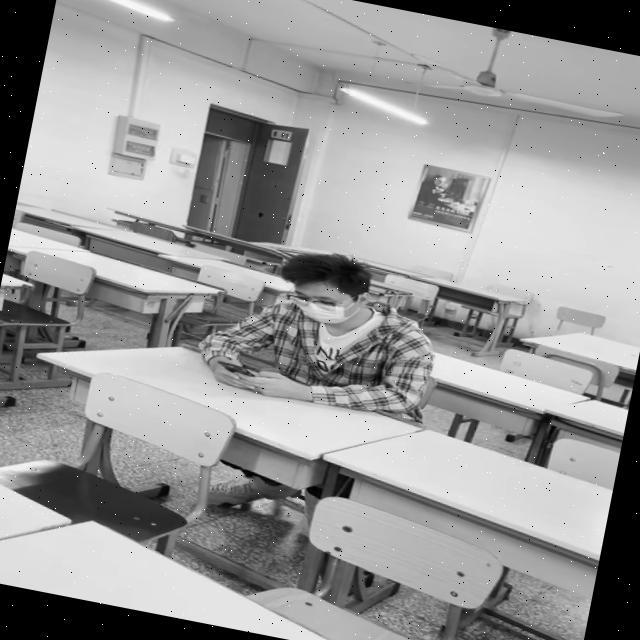phone: (191, 233, 446, 426)
